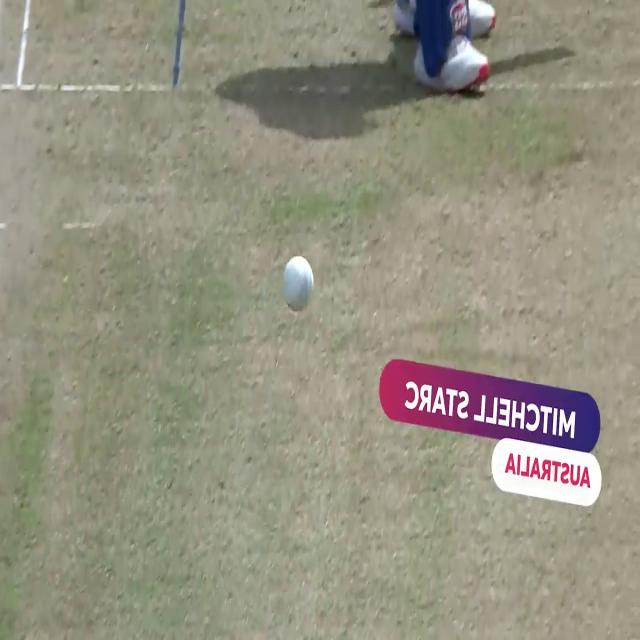ball: (272, 249, 319, 320)
